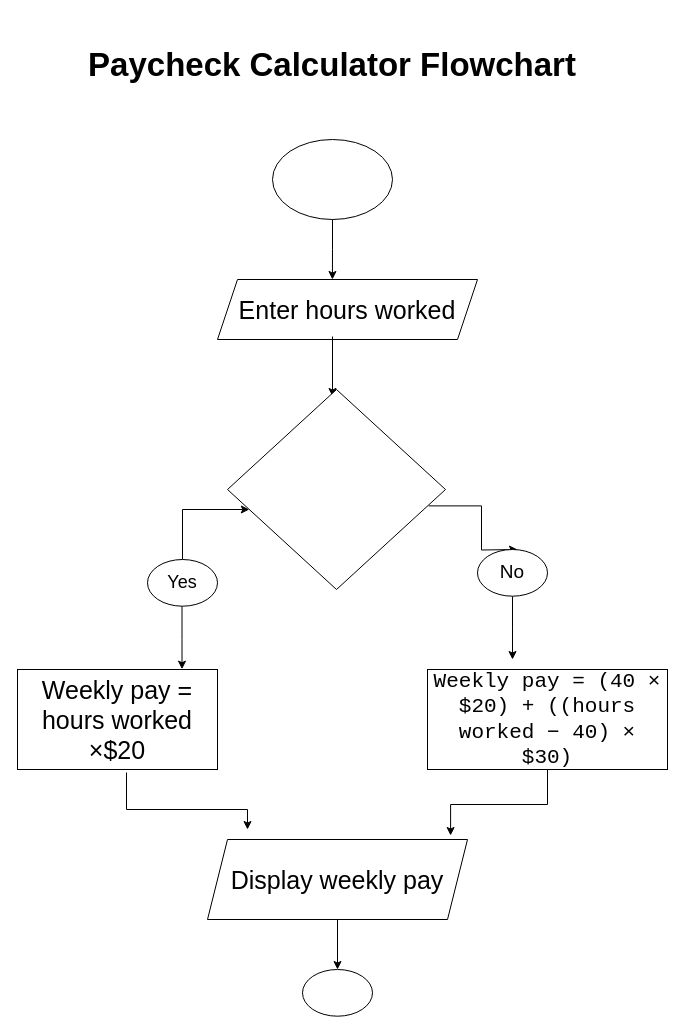
Some shapes in this 685 by 1034 pixel diagram are drawn without their labels. Each missing label, with the box of its shape:
End: (302, 968, 372, 1016)
Start: (272, 138, 392, 220)
“Hours worked ≤ 40?”: (226, 388, 446, 590)
